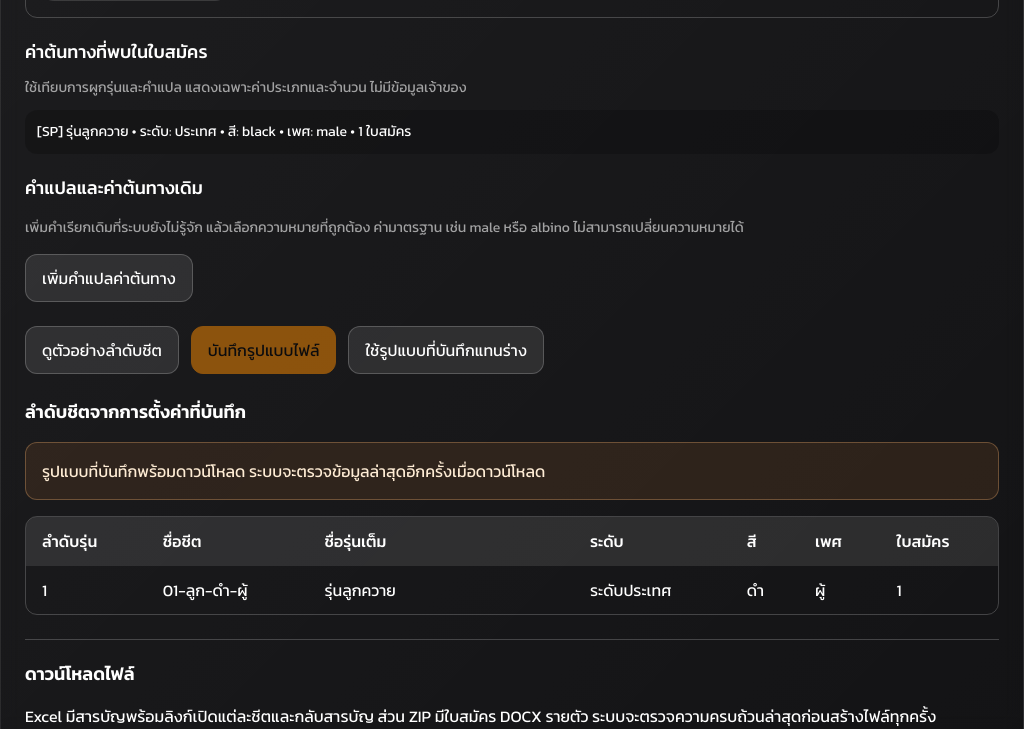
Test: shows source blockers rather than enabling a partial export
(page scrolled)
Step 1. Click the button "ดูตัวอย่างลำดับชีต" → [102, 350], box [25,326,179,374]
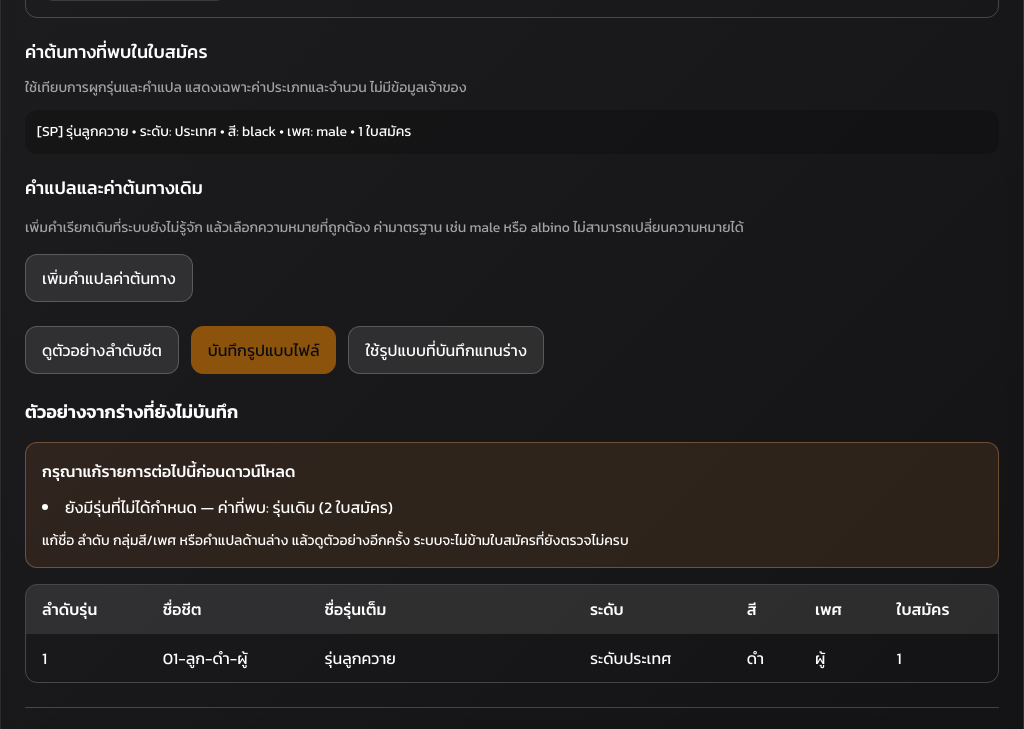
Expected: the button "บันทึกรูปแบบไฟล์" is disabled, [191,326,336,374]
Now the list item "ยังมีรุ่นที่ไม่ได้กำหนด — ค่าที่พบ: รุ่นเดิม (2 ใบสมัคร)" is shown, box [65,495,393,519]
